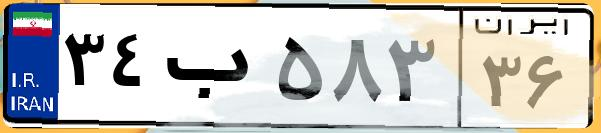3: (385, 28, 445, 110), (57, 26, 110, 100), (475, 38, 525, 113)
4: (110, 28, 158, 98)
5: (270, 28, 330, 110)
6: (525, 38, 570, 115)
8: (330, 28, 385, 110)
ب: (158, 20, 270, 120)
